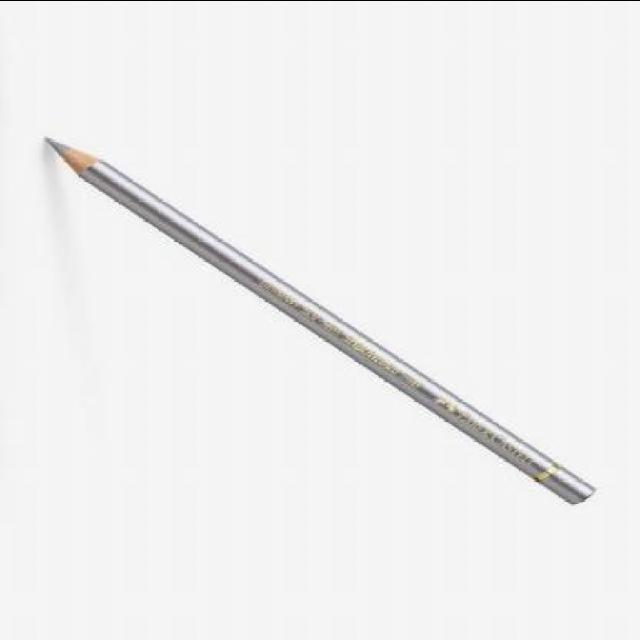pencil: (30, 128, 114, 184)
